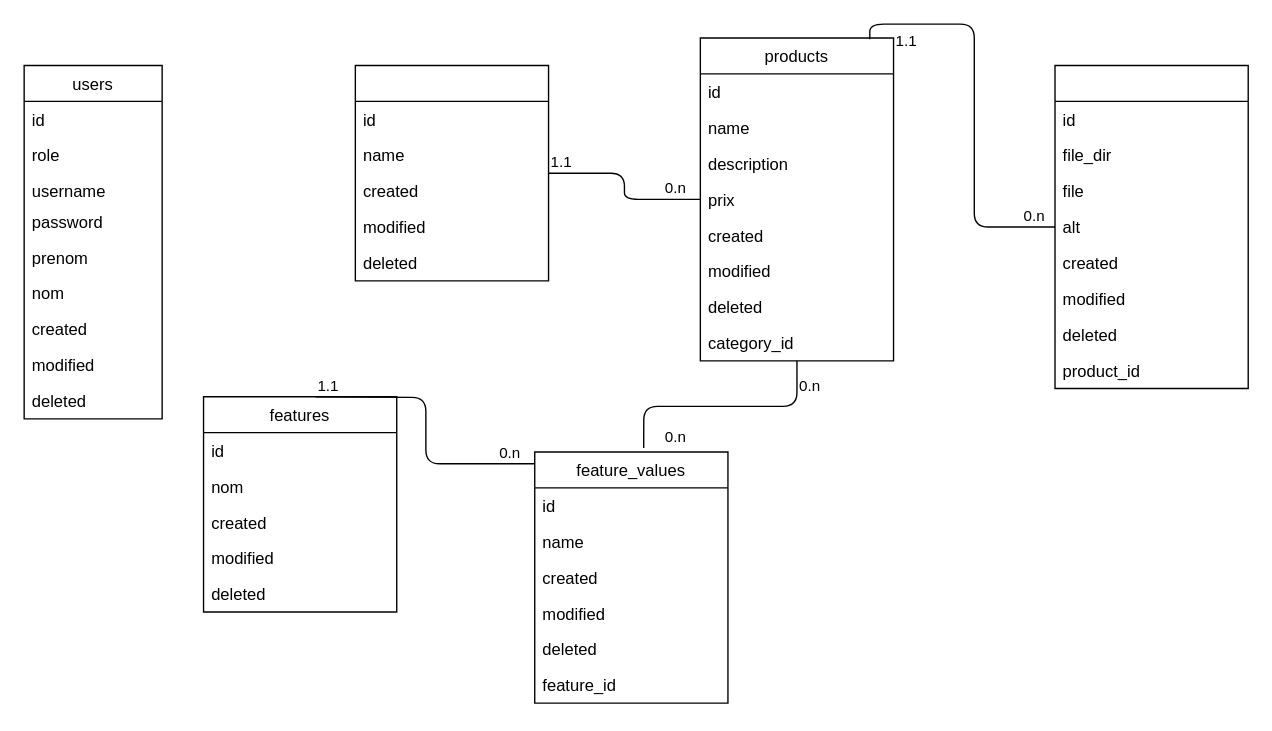
This 1272x731 diagram has some shape labels left out. Each missing label, with the box of its shape:
categories: (354, 64, 549, 281)
images: (1054, 64, 1248, 388)
